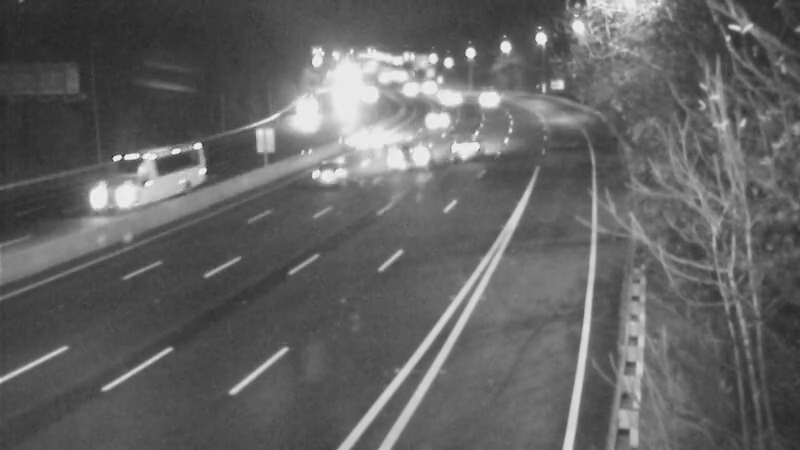vehicle: (382, 114, 462, 194), (78, 169, 158, 249), (401, 62, 451, 112), (384, 63, 434, 113), (423, 68, 473, 118), (458, 77, 508, 127), (427, 74, 477, 124), (412, 93, 462, 143), (346, 111, 396, 161), (442, 123, 492, 173), (281, 83, 331, 133)
